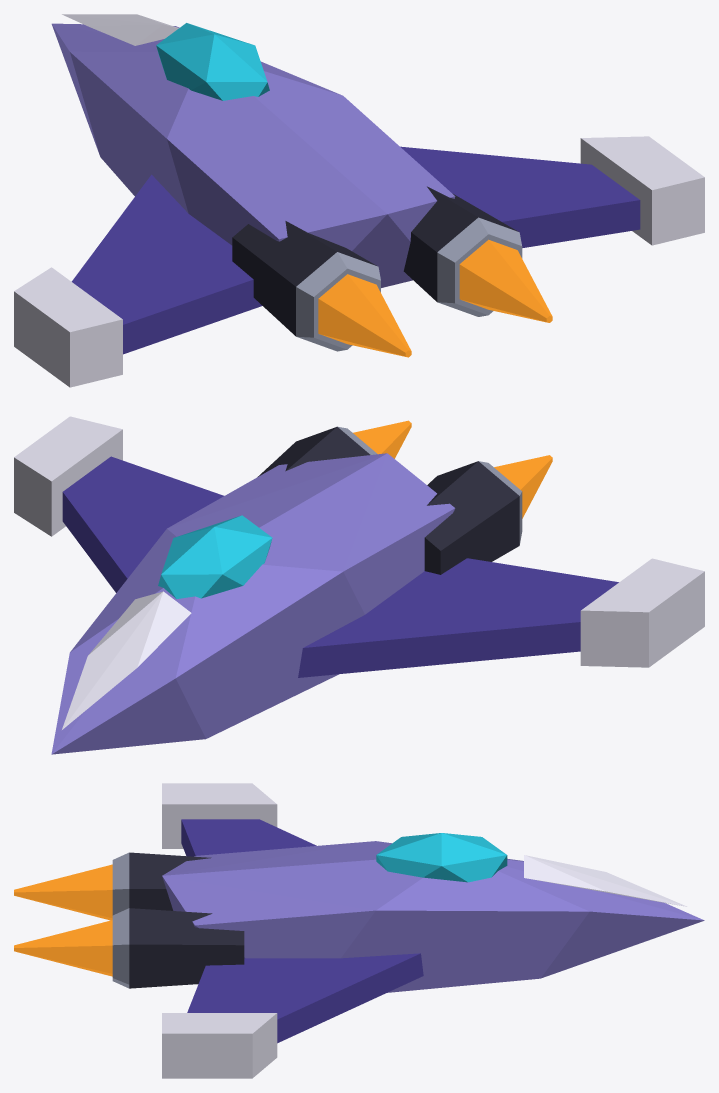
File: ship_player.glb
3 renders of one model, top to bottom at view 1: azimuth 30°, elevation 25°; view 2: azimuth 150°, elevation 25°; view 3: azimuth 270°, elevation 25°, orthographic. The views are drawn at different scales.
Visible parts, largest first — view 1: ship_player, anim_flame_R, anim_flame_L; view 2: ship_player, anim_flame_L, anim_flame_R; view 3: ship_player, anim_flame_L, anim_flame_R.
Part boxes in pixels (x1,y1,x2,y2): ship_player: [14, 14, 704, 387]; anim_flame_R: [459, 239, 552, 322]; anim_flame_L: [318, 274, 411, 357]; ship_player: [14, 416, 704, 754]; anim_flame_L: [494, 455, 552, 518]; anim_flame_R: [353, 420, 411, 458]; ship_player: [112, 783, 704, 1078]; anim_flame_L: [14, 864, 112, 920]; anim_flame_R: [14, 920, 112, 976].
Size of the model in its own units: 36 by 8.88 by 42.
Materials: 2 (2 with a texture image).
